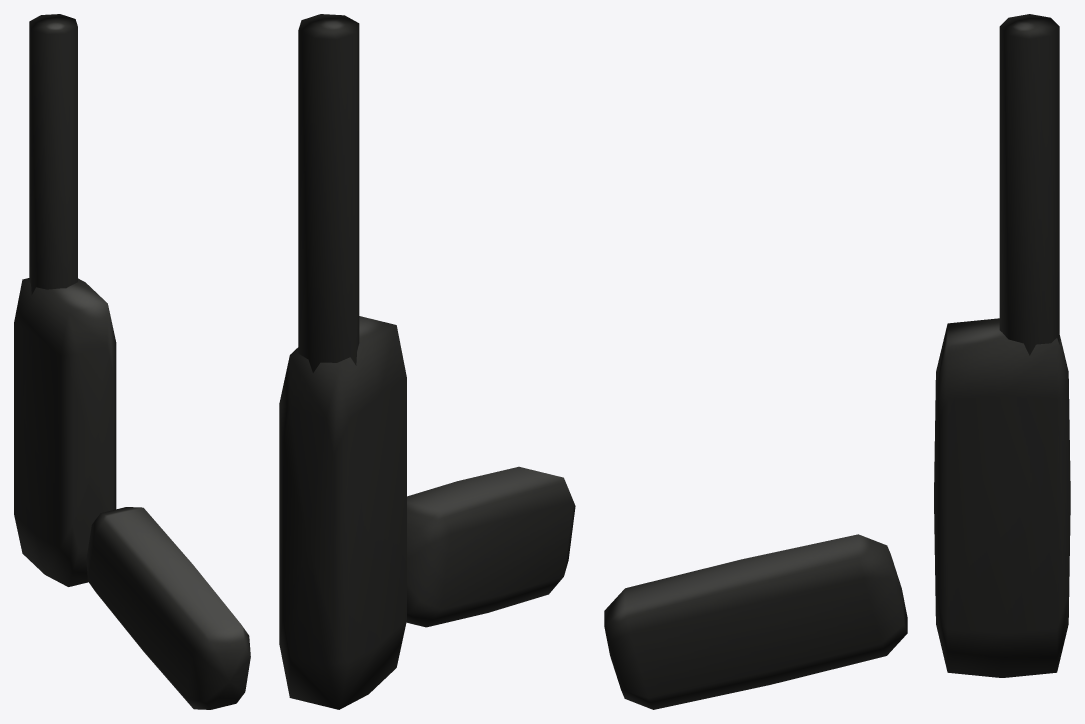
The model's file is pistolet.glb.
3 views of the same model, side by side, from view 1: azimuth 30°, elevation 25°; view 2: azimuth 150°, elevation 25°; view 3: azimuth 270°, elevation 25° (orthographic). The views are drawn at different scales.
Visible parts, largest first — view 1: pistolet; view 2: pistolet; view 3: pistolet.
Boxes of the visible parts, box(x1,y1,x2,y2) form: pistolet: box(14, 14, 250, 709); pistolet: box(279, 14, 575, 709); pistolet: box(604, 14, 1070, 709).
Bounding box in the file's own units: 0.0291 × 0.2712 × 0.1704.
Materials: 1 (1 with a texture image).
